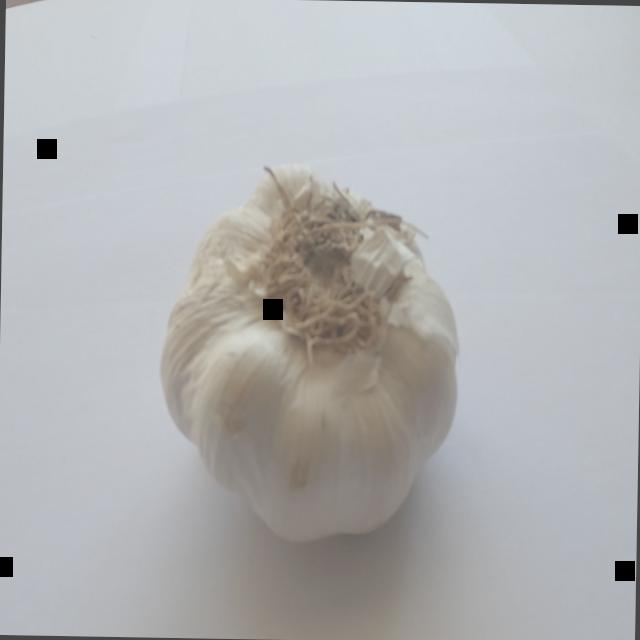Garlic: (143, 144, 479, 570)
